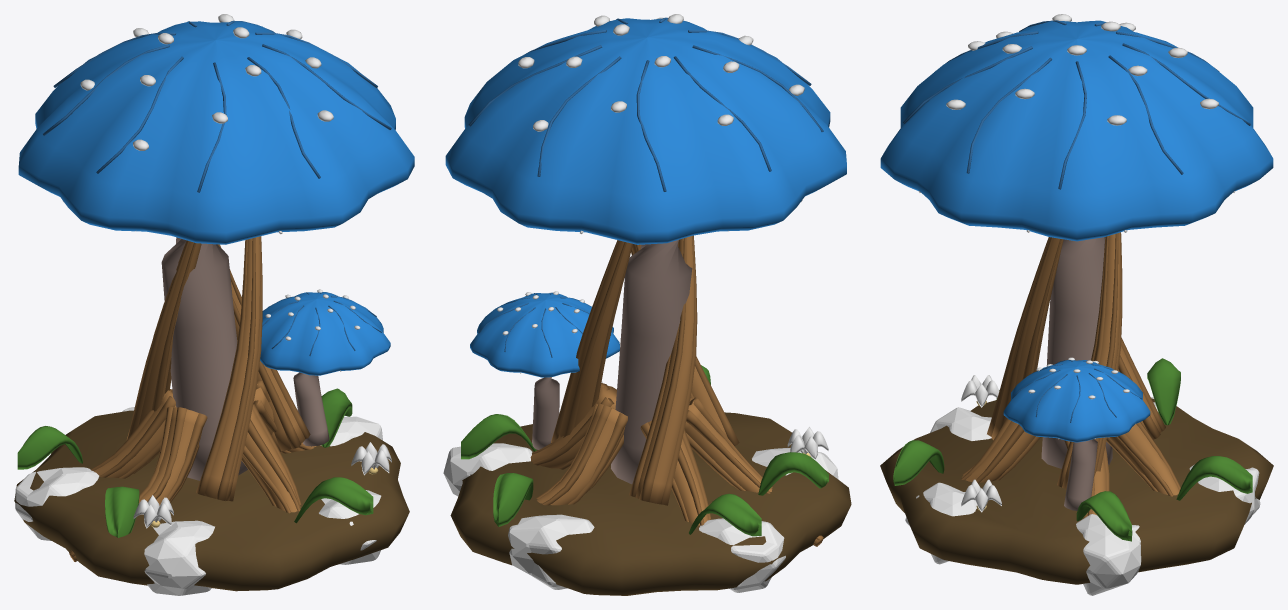
Rendered from mushroom-2.fbx.
3 views of the same model, side by side, from view 1: azimuth 30°, elevation 25°; view 2: azimuth 150°, elevation 25°; view 3: azimuth 270°, elevation 25° (orthographic). The views are drawn at different scales.
Parts seen in each view (by area): view 1: Petals_PortalCap, mushroom-2_Organic, Turret_Bark, Turret_PortalCap, mushroom-2_Bark, mushroom-2_Stone, mushroom-2_PortalBamboo, Petals_Glow, mushroom-2_Petal; view 2: Petals_PortalCap, mushroom-2_Organic, Turret_Bark, mushroom-2_Bark, Turret_PortalCap, mushroom-2_Stone, mushroom-2_PortalBamboo, Petals_Glow, mushroom-2_Petal; view 3: Petals_PortalCap, mushroom-2_Organic, Turret_PortalCap, Turret_Bark, mushroom-2_Stone, mushroom-2_PortalBamboo, mushroom-2_Bark, Petals_Glow, mushroom-2_Petal.
Boxes of the visible parts, x1,y1,x2,y2 form: Petals_PortalCap: (18,20,414,480); mushroom-2_Organic: (14,410,409,591); Turret_Bark: (127,236,310,501); Turret_PortalCap: (260,292,390,446); mushroom-2_Bark: (69,381,316,561); mushroom-2_Stone: (15,407,382,595); mushroom-2_PortalBamboo: (17,388,373,537); Petals_Glow: (63,14,333,234); mushroom-2_Petal: (133,442,391,528); Petals_PortalCap: (445,17,846,484); mushroom-2_Organic: (450,412,851,595); Turret_Bark: (551,235,739,505); mushroom-2_Bark: (530,383,823,546); Turret_PortalCap: (470,292,619,449); mushroom-2_Stone: (443,443,838,592); mushroom-2_PortalBamboo: (461,365,828,536); Petals_Glow: (518,14,804,234); mushroom-2_Petal: (601,381,828,460); Petals_PortalCap: (880,20,1273,468); mushroom-2_Organic: (880,398,1273,584); Turret_PortalCap: (1003,360,1150,510); Turret_Bark: (987,232,1165,489); mushroom-2_Stone: (905,397,1260,595); mushroom-2_PortalBamboo: (893,358,1252,541); mushroom-2_Bark: (961,418,1180,517); Petals_Glow: (918,14,1235,232); mushroom-2_Petal: (961,375,1001,512).
Bounding box in the file's own units: 82.57 × 113 × 82.7.
